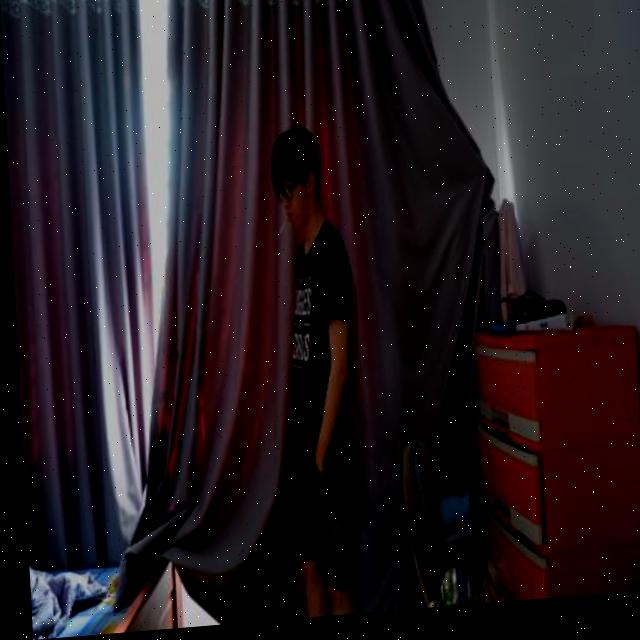cigarette: (276, 221, 288, 240)
